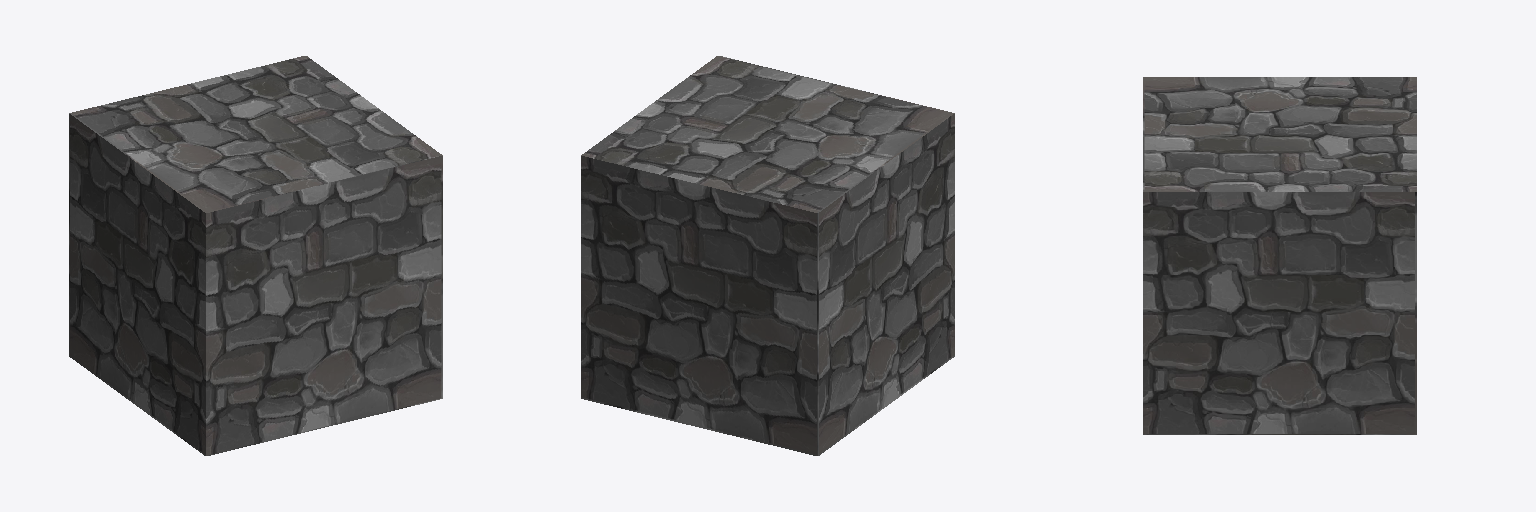
The picture shows the model from 3 angles: view 1: azimuth 30°, elevation 25°; view 2: azimuth 150°, elevation 25°; view 3: azimuth 270°, elevation 25°; orthographic projection.
Visible parts, largest first — view 1: BoxTemplate; view 2: BoxTemplate; view 3: BoxTemplate.
Part boxes in pixels (left/top/right/bottom): BoxTemplate: left=69, top=56, right=442, bottom=455; BoxTemplate: left=581, top=56, right=954, bottom=455; BoxTemplate: left=1143, top=77, right=1416, bottom=434.
Bounding box in the file's own units: 10.04 × 9.84 × 10.04.
Materials: 1 (1 with a texture image).